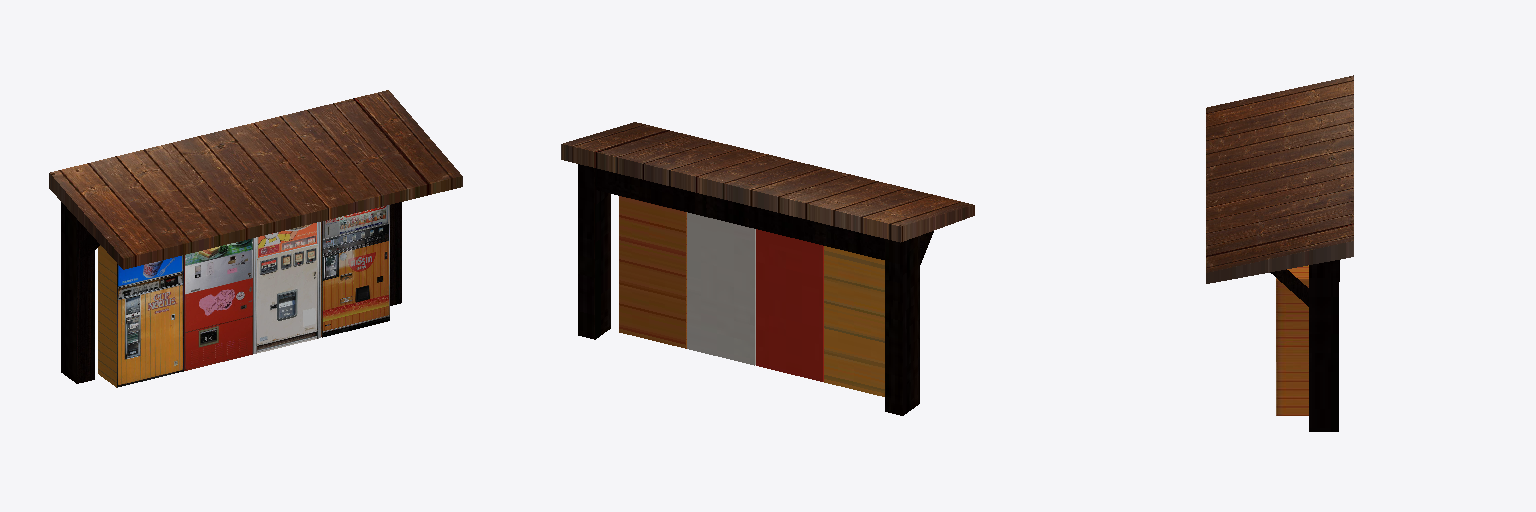
The picture shows the model from 3 angles: view 1: azimuth 30°, elevation 25°; view 2: azimuth 150°, elevation 25°; view 3: azimuth 270°, elevation 25°; orthographic projection.
Bounding box in the file's own units: 3.82 × 2.11 × 1.44.
Materials: 1 (1 with a texture image).